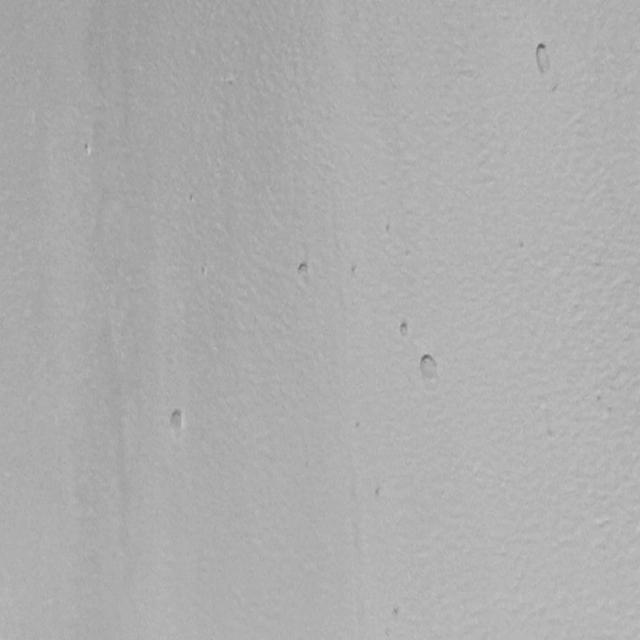pin holes: (530, 40, 554, 74), (419, 354, 443, 388), (166, 406, 189, 438), (294, 258, 315, 284), (395, 317, 414, 342), (347, 260, 366, 282), (381, 220, 399, 240), (391, 605, 407, 623), (82, 139, 95, 158), (374, 484, 384, 500), (519, 240, 527, 252)
